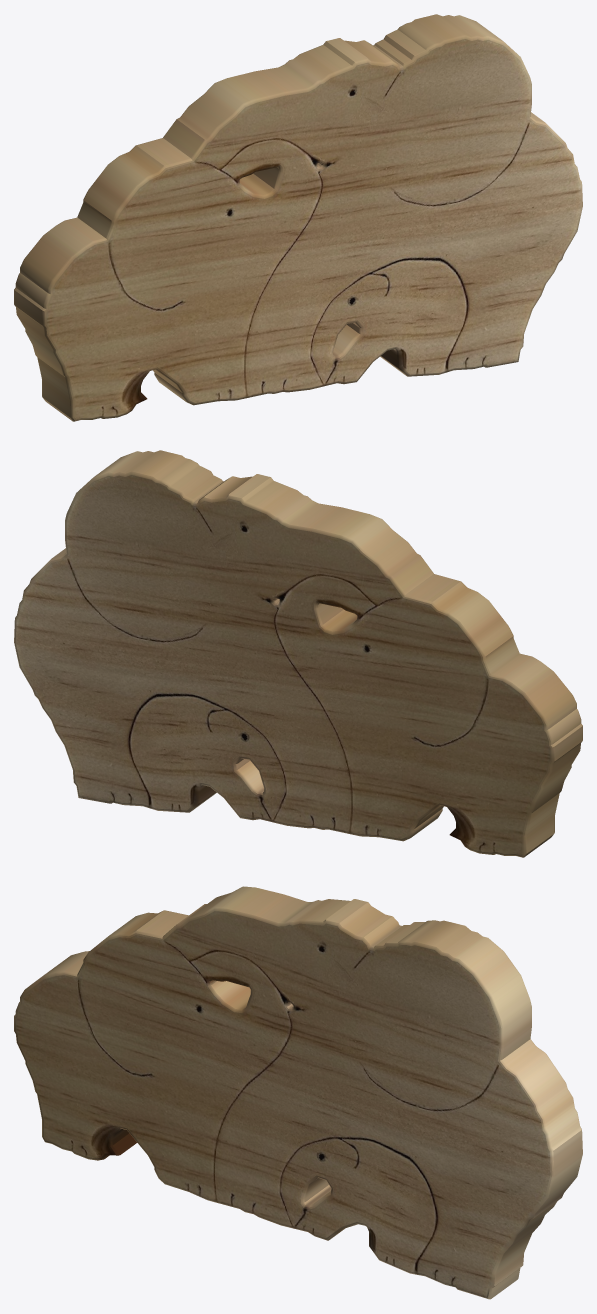
Rendered from animal-family.glb.
3 renders of one model, top to bottom at view 1: azimuth 30°, elevation 25°; view 2: azimuth 150°, elevation 25°; view 3: azimuth 330°, elevation 25°, orthographic.
Visible parts, largest first — view 1: Elephant family puzzle; view 2: Elephant family puzzle; view 3: Elephant family puzzle.
Boxes of the visible parts, bbox=[...] form: Elephant family puzzle: bbox=[14, 14, 582, 421]; Elephant family puzzle: bbox=[14, 450, 582, 857]; Elephant family puzzle: bbox=[14, 886, 582, 1299].
Bounding box in the file's own units: 0.2178 × 0.131 × 0.0214.
1 material, 1 textured.
